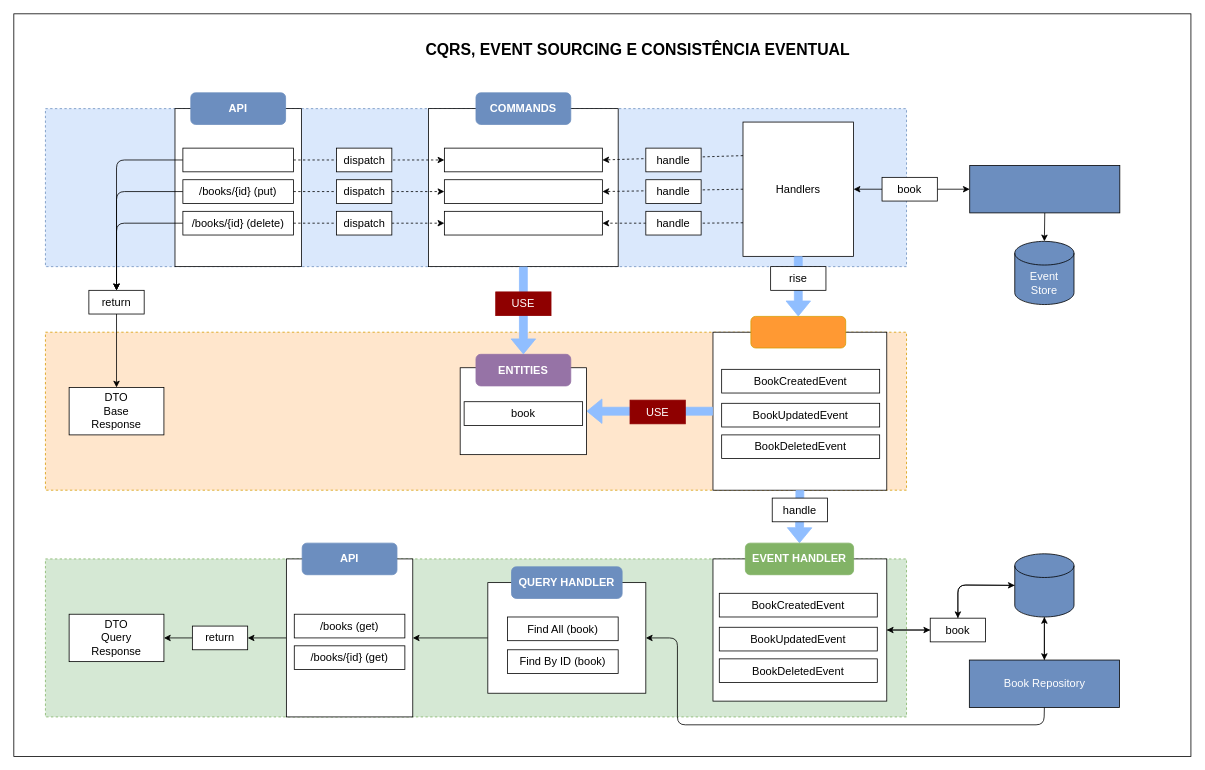
The diagram is 1205 pixels wide and 770 high, and some of its shapes have lost their labels. Each missing label, with the centre of its shape:
"/books (post)" belongs at (x=237, y=159).
"Book Database" belongs at (x=1044, y=585).
"CreateBookCommand" belongs at (x=523, y=159).
"DeleteBookCommand" belongs at (x=523, y=223).
"Event Sourcing Repository" belongs at (x=1044, y=189).
"EVENTS" belongs at (x=798, y=332).
"UpdateBookCommand" belongs at (x=523, y=191).
